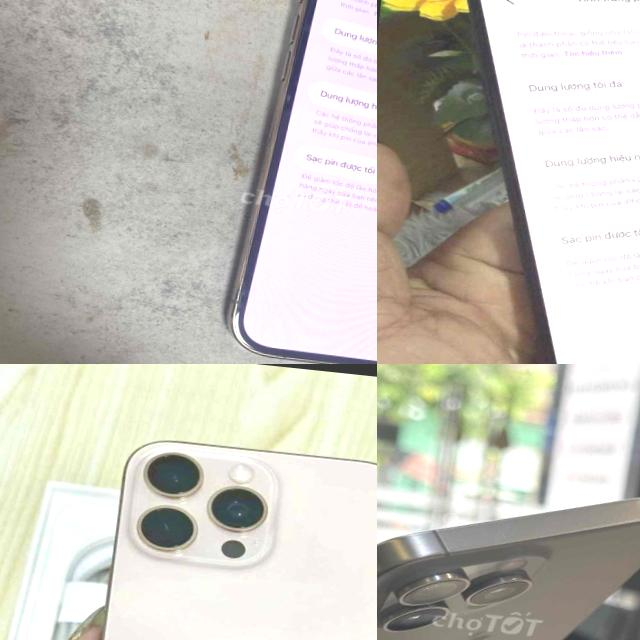gen_12_13: (210, 0, 377, 364)
gen_14: (419, 0, 640, 364)
gen_15: (377, 449, 640, 640)
gen_16: (53, 424, 377, 640)
